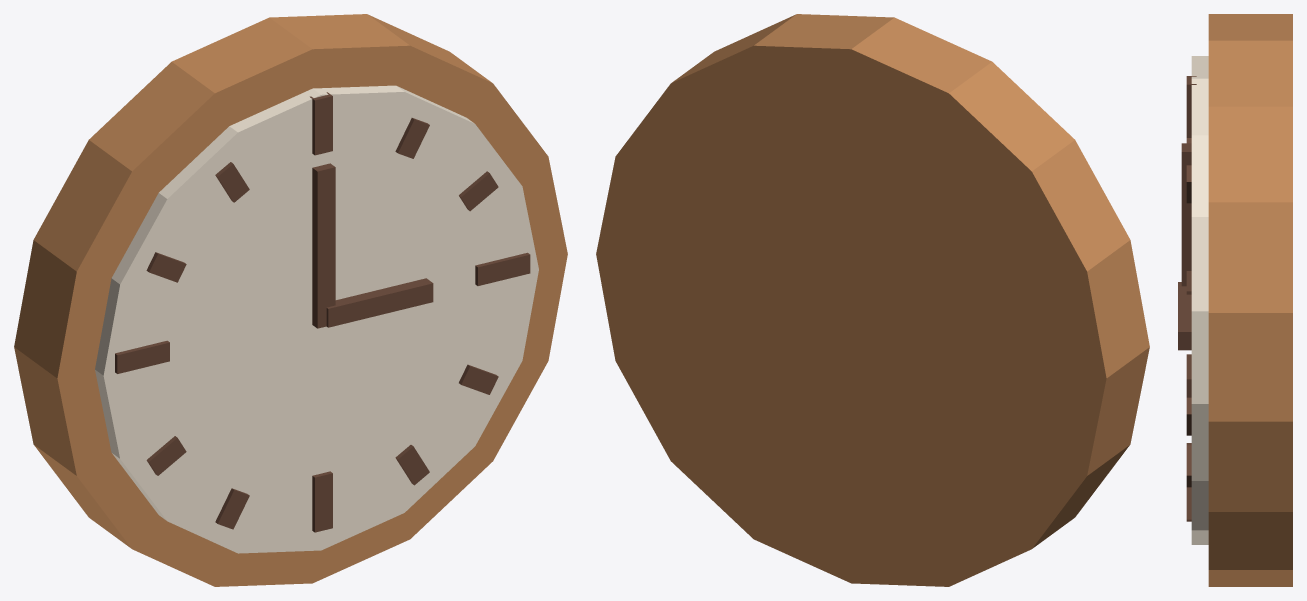
File: wall_clock.glb
3 views of the same model, side by side, from view 1: azimuth 30°, elevation 25°; view 2: azimuth 150°, elevation 25°; view 3: azimuth 270°, elevation 25° (orthographic). The views are drawn at different scales.
Parts seen in each view (by area): view 1: wall_clock; view 2: wall_clock; view 3: wall_clock.
Boxes of the visible parts, left/top/right/bottom form: wall_clock: left=14, top=14, right=567, bottom=586; wall_clock: left=596, top=14, right=1149, bottom=586; wall_clock: left=1178, top=14, right=1292, bottom=586.
Bounding box in the file's own units: 0.34 × 0.34 × 0.068.
